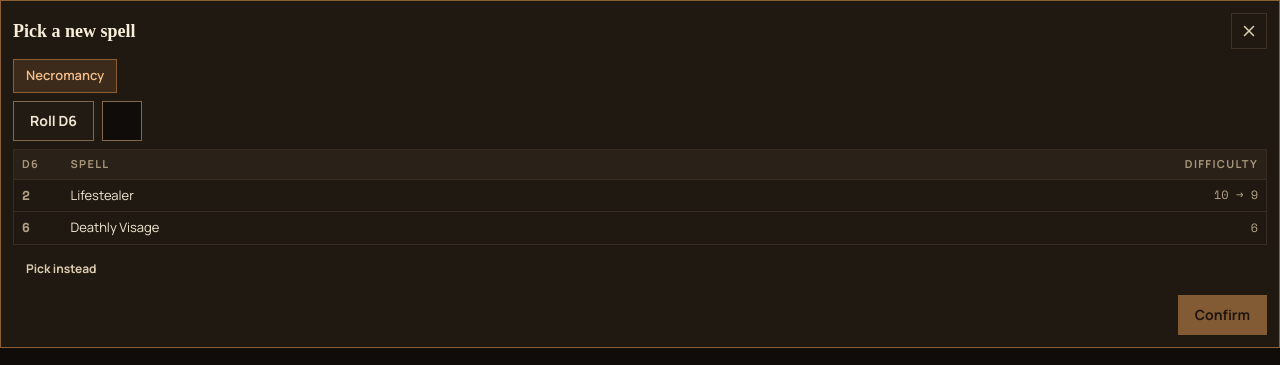
Test: A pick left for later › says only what the current pick gives when a skill follows a spell
Later steps or results of the test are not shown.
Click the button "Deathly Visage" at (115, 227), box x1=70 y1=218 x2=710 y2=238
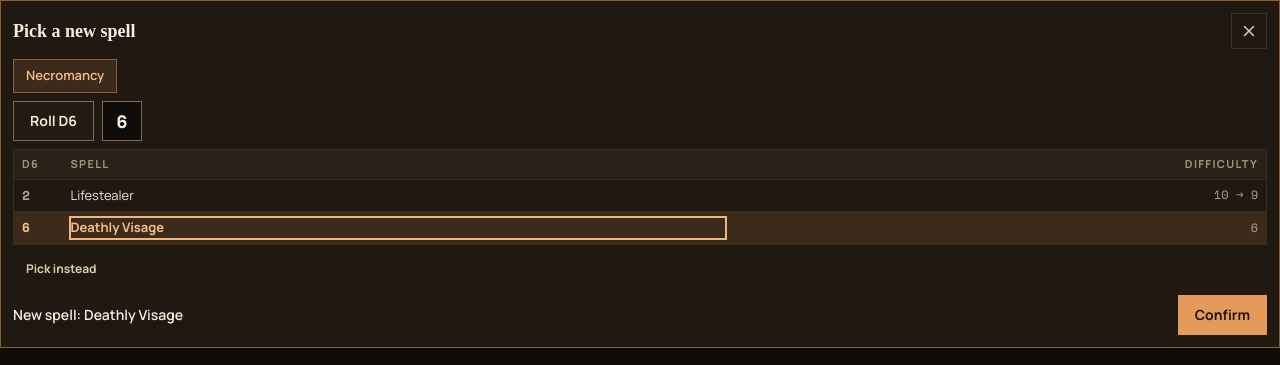
Now the text "New spell: Deathly Visage" is shown, box x1=13 y1=304 x2=183 y2=324
